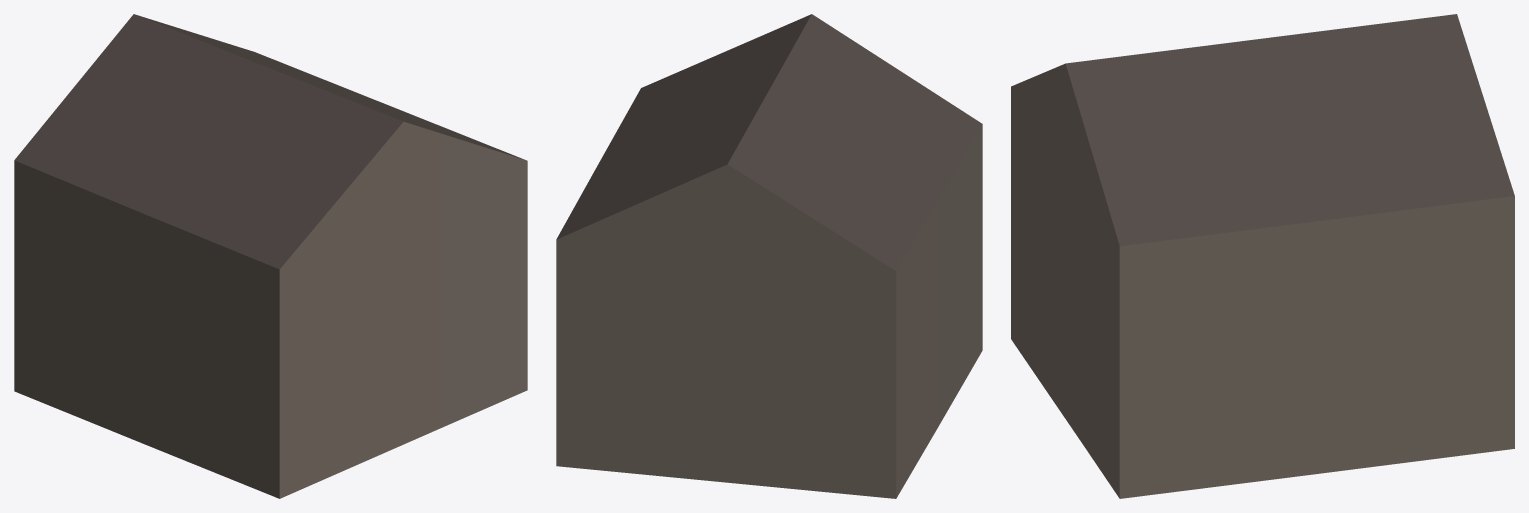
3 views of the same model, side by side, from view 1: azimuth 30°, elevation 25°; view 2: azimuth 150°, elevation 25°; view 3: azimuth 270°, elevation 25° (orthographic). The views are drawn at different scales.
Parts seen in each view (by area): view 1: HP-w1198645104; view 2: HP-w1198645104; view 3: HP-w1198645104.
Part boxes in pixels (x1,y1,x2,y2): HP-w1198645104: (14, 14, 527, 498); HP-w1198645104: (556, 14, 982, 498); HP-w1198645104: (1011, 14, 1514, 498).
Size of the model in its own units: 10.57 by 8.44 by 10.84.
